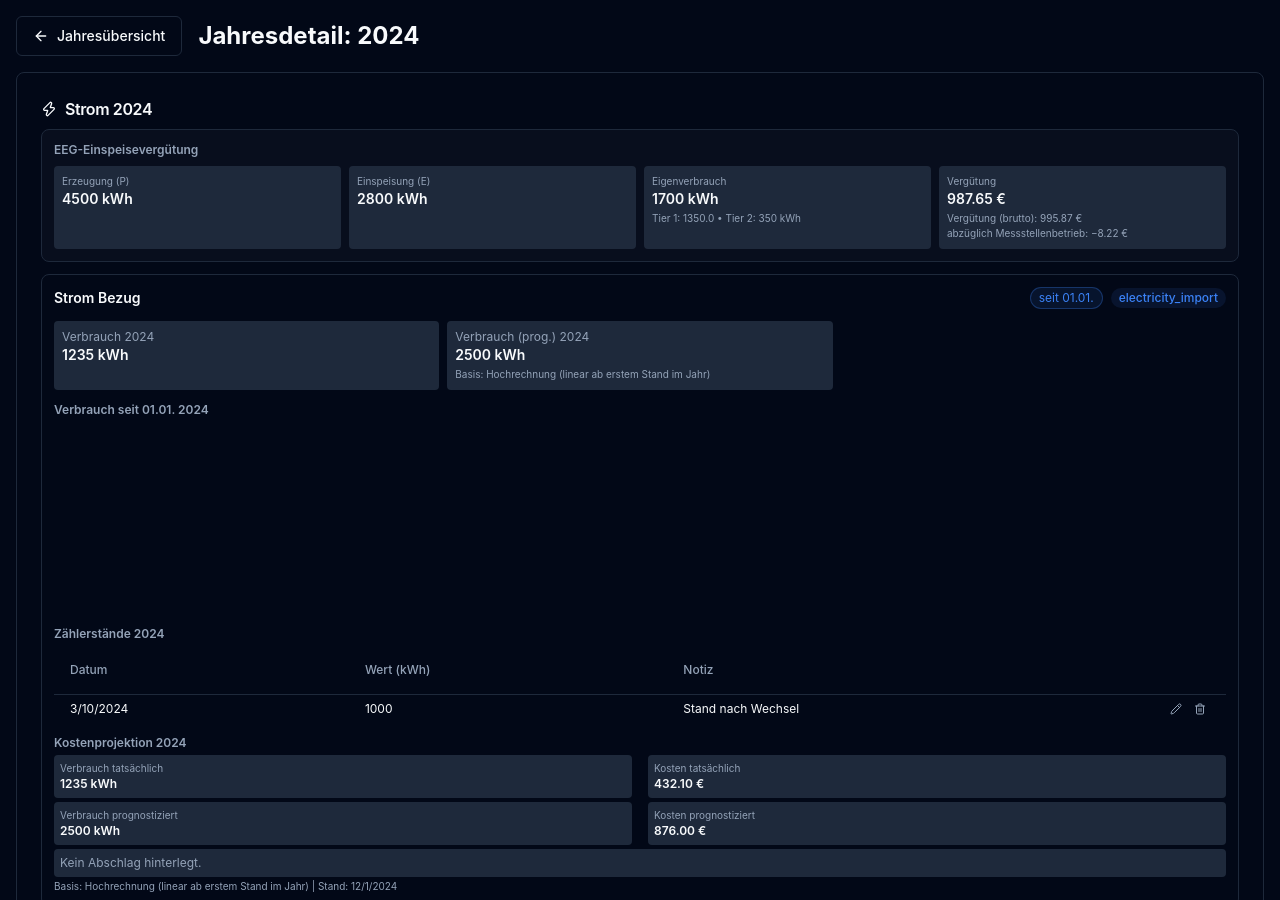
Test: YearDetail › reading edit dialog › opens the edit dialog (not a direct delete) when the trash icon is used
expect the heading "Jahresdetail: 2024" is shown: met, box [198, 20, 420, 52]
Click the button titled "Löschen".
click(1200, 708)  # box [1190, 698, 1210, 718]
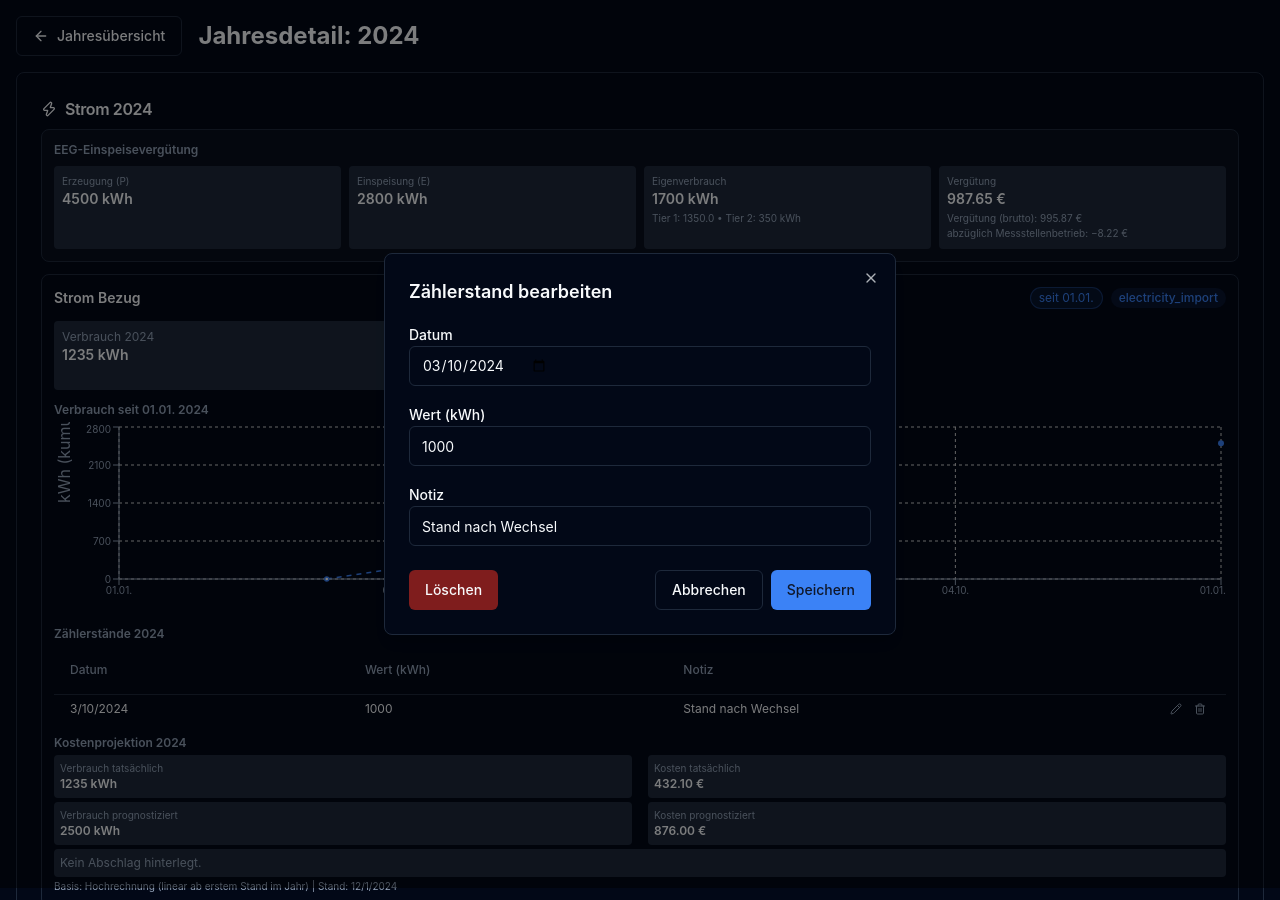
expect the heading "Zählerstand bearbeiten" is shown: met, box [409, 281, 612, 302]
